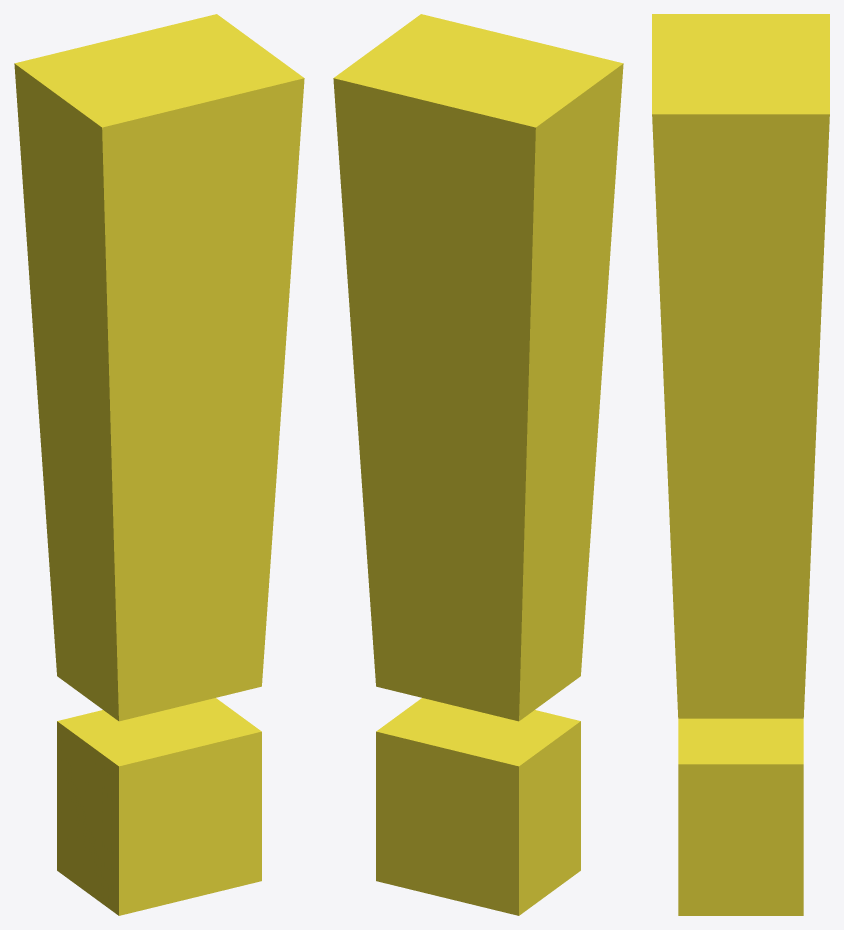
Rendered from dauchamthan.fbx.
The picture shows the model from 3 angles, left to right: view 1: azimuth 30°, elevation 25°; view 2: azimuth 150°, elevation 25°; view 3: azimuth 270°, elevation 25°; orthographic projection.
Parts seen in each view (by area): view 1: chamthan; view 2: chamthan; view 3: chamthan.
Boxes of the visible parts, x1,y1,x2,y2 form: chamthan: (14, 14, 304, 915); chamthan: (333, 14, 623, 915); chamthan: (652, 14, 829, 915).
Bounding box in the file's own units: 7.8 × 29.65 × 5.85.
